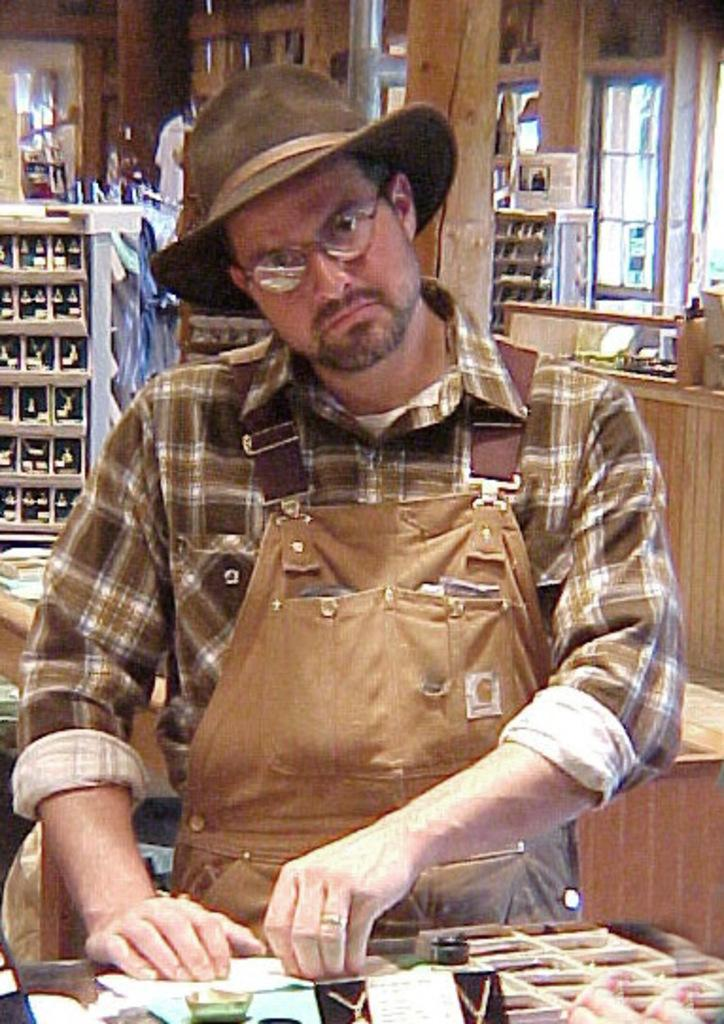Hat: (150, 60, 457, 317)
